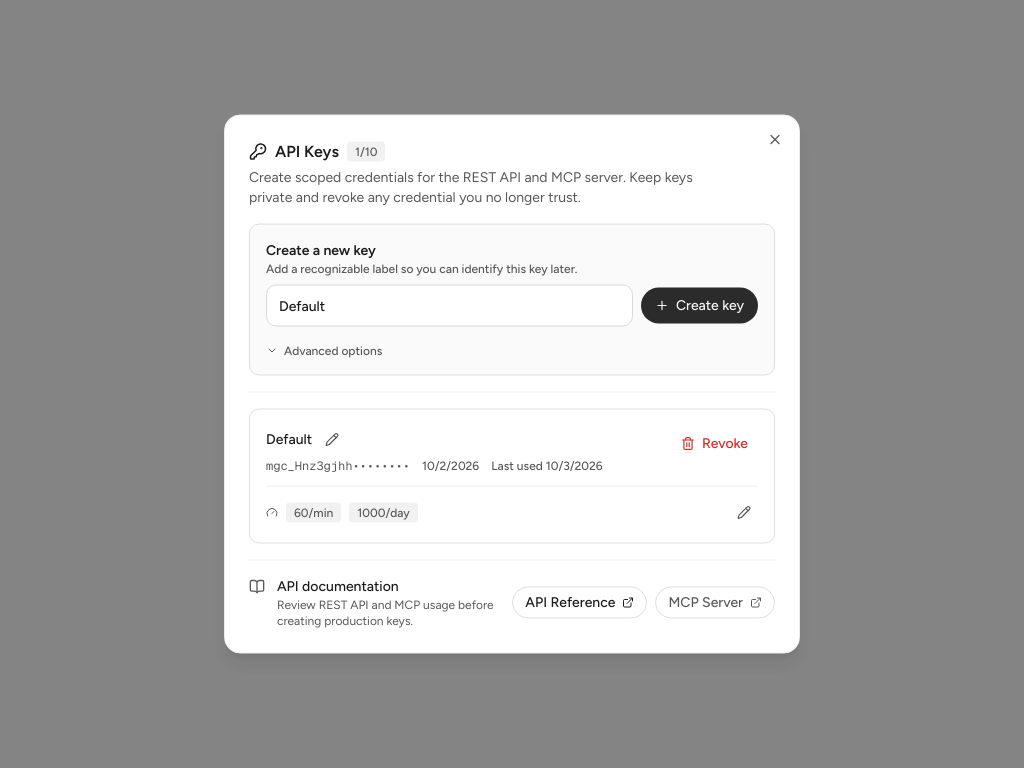
Test case: creating a key › sends magica's default label and the contract's default limits
The width and height of the screenshot is (1024, 768).
Expected: the field named "Key label" holds "Default", x1=266 y1=284 x2=633 y2=326
What coordinates should you click on to do the following:
click the button "Create key"
I would click on:
 (699, 306)
Its box is x1=641 y1=288 x2=758 y2=324.
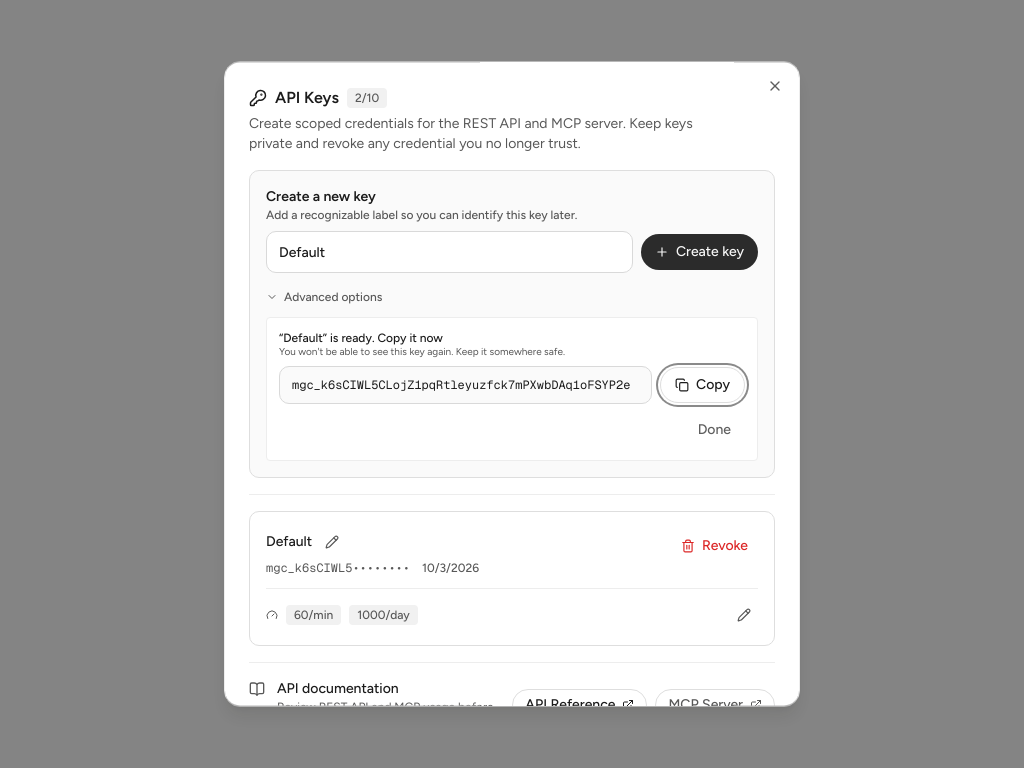
Result: the text named "active keys" reads "2/10" at x1=347 y1=88 x2=387 y2=108
